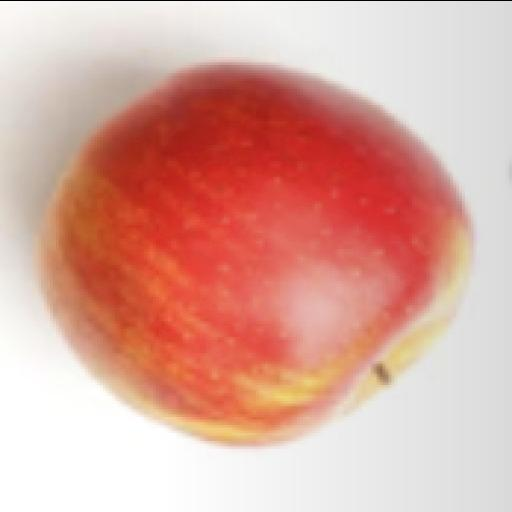apple: (41, 65, 472, 445)
